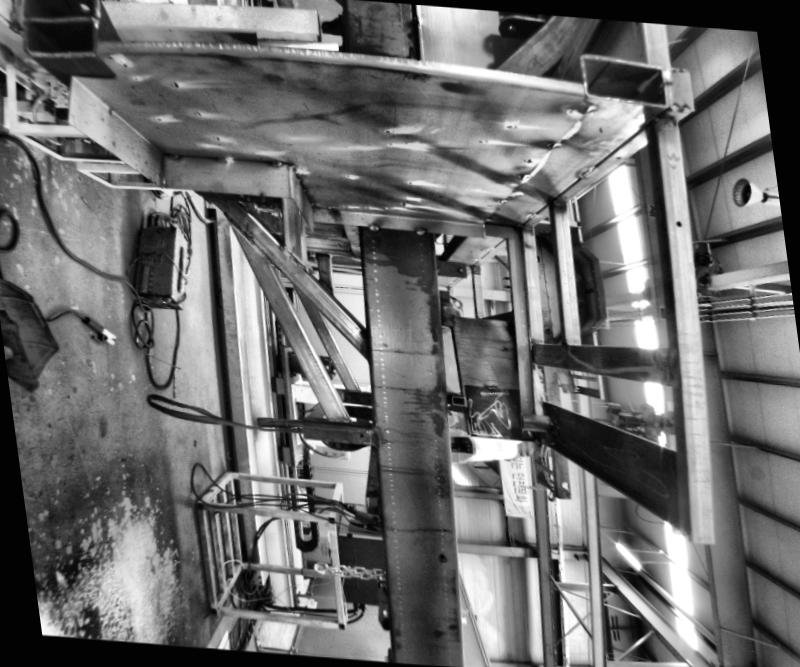hole: (676, 220, 684, 227), (440, 553, 447, 560), (634, 361, 640, 367), (359, 434, 366, 439)
welding: (208, 152, 235, 168), (164, 148, 184, 162), (411, 226, 430, 237), (368, 220, 380, 233), (265, 159, 284, 166)
